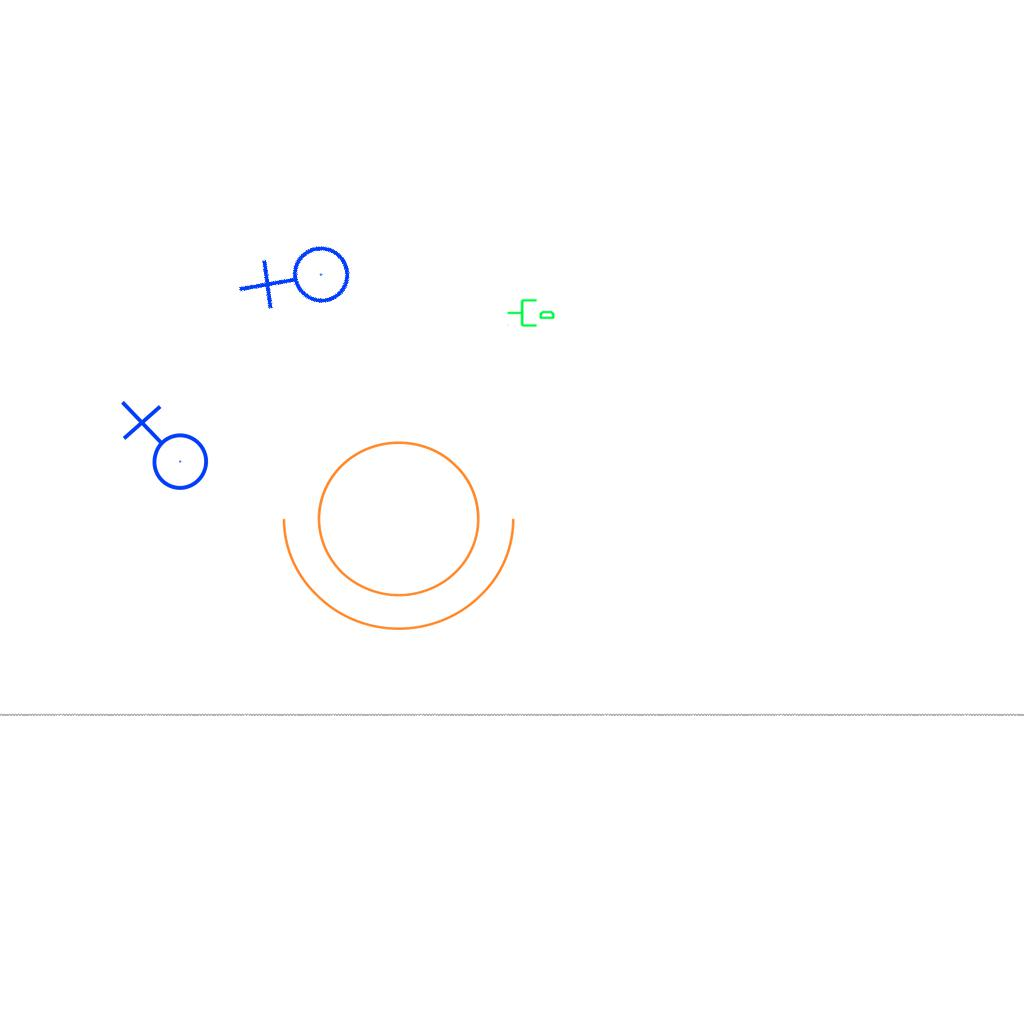Datenanschluss_einfach: (506, 295, 556, 329)
Elektroanschluss_allgemein_230V_Geraeteanschlussdose_230V: (234, 215, 369, 349), (116, 400, 210, 499)
Scheinwerfer_fuer_Alarmbeleuchtung: (273, 416, 537, 641)
